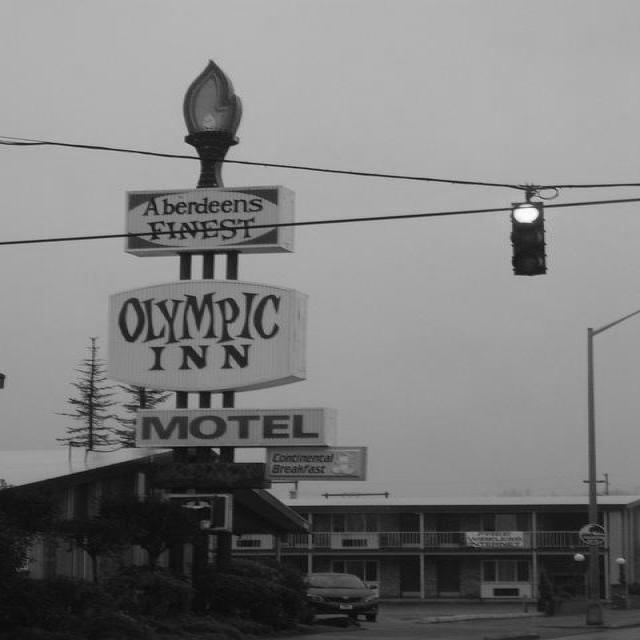vehicle: (303, 573, 379, 621)
